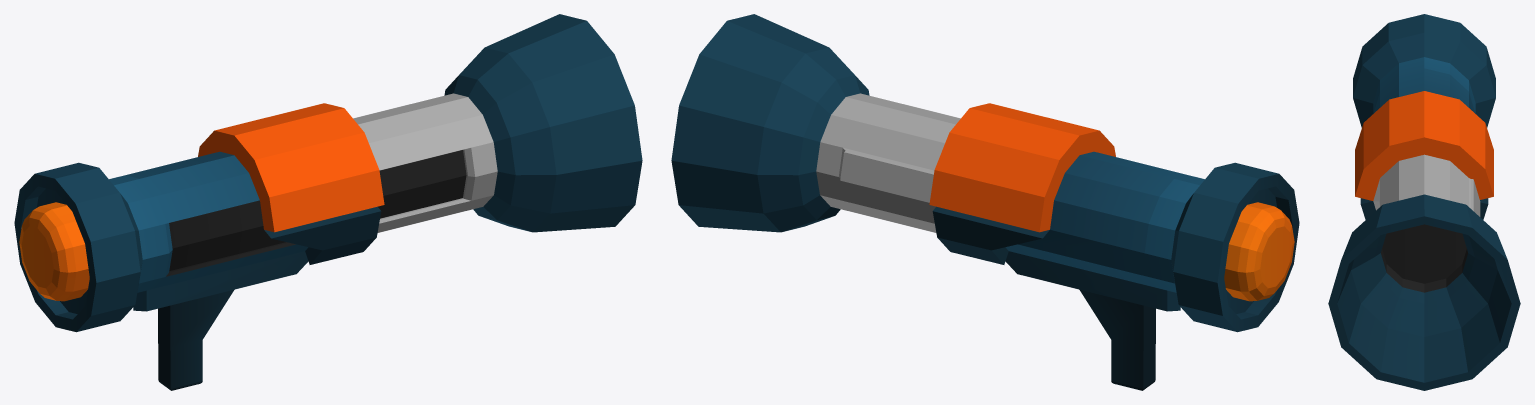
Rendered from BOUNCE BOMB (2).fbx.
The picture shows the model from 3 angles, left to right: view 1: azimuth 30°, elevation 25°; view 2: azimuth 150°, elevation 25°; view 3: azimuth 270°, elevation 25°; orthographic projection. The views are drawn at different scales.
Parts seen in each view (by area): view 1: Cylinder.009; view 2: Cylinder.009; view 3: Cylinder.009.
Boxes of the visible parts, box(x1,y1,x2,y2) form: Cylinder.009: box(14, 14, 642, 390); Cylinder.009: box(671, 14, 1299, 390); Cylinder.009: box(1328, 14, 1520, 390).
Bounding box in the file's own units: 85.02 × 38.99 × 29.44.
Materials: 1 (1 with a texture image).
